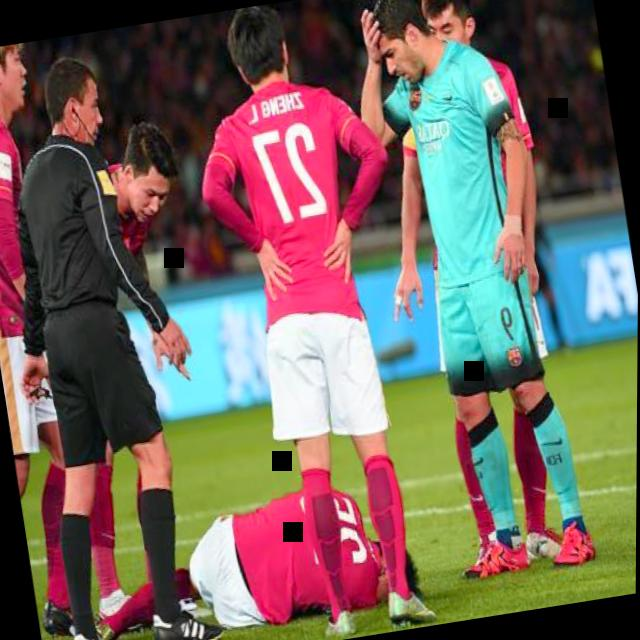Fall-Detected: (67, 447, 423, 640)
